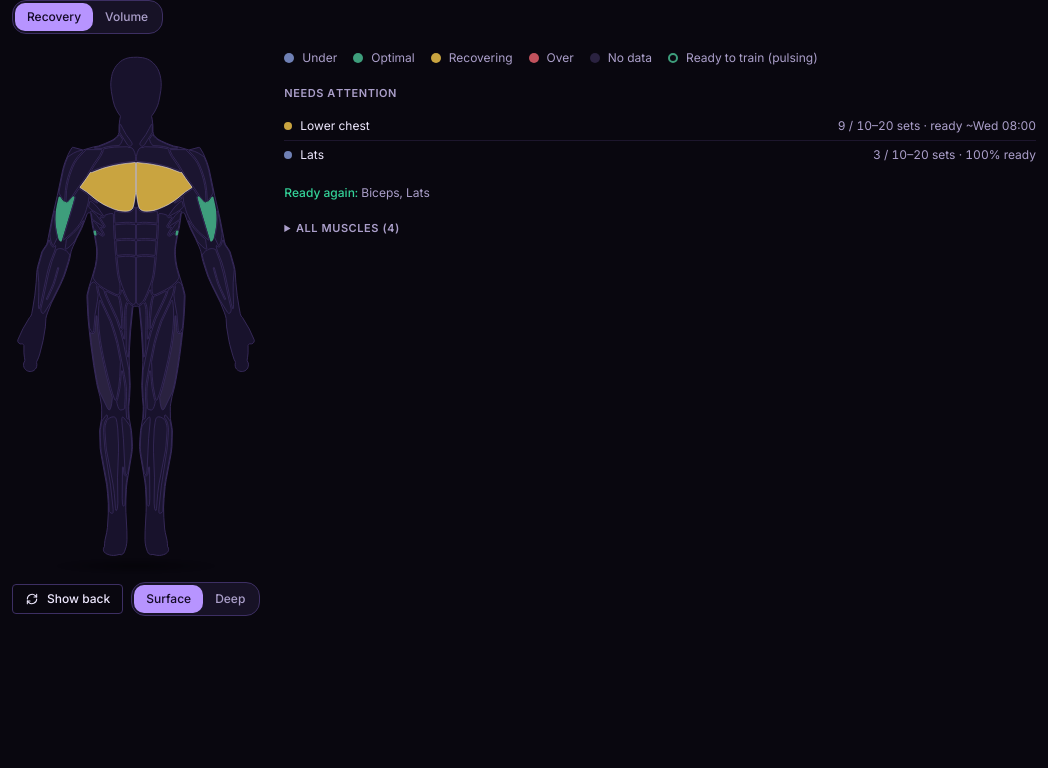
Test case: MuscleMap › flips between front and back as a card rotate
Click the button with aria-label "Show back of the body" at (68, 599), box [12,584,123,614]
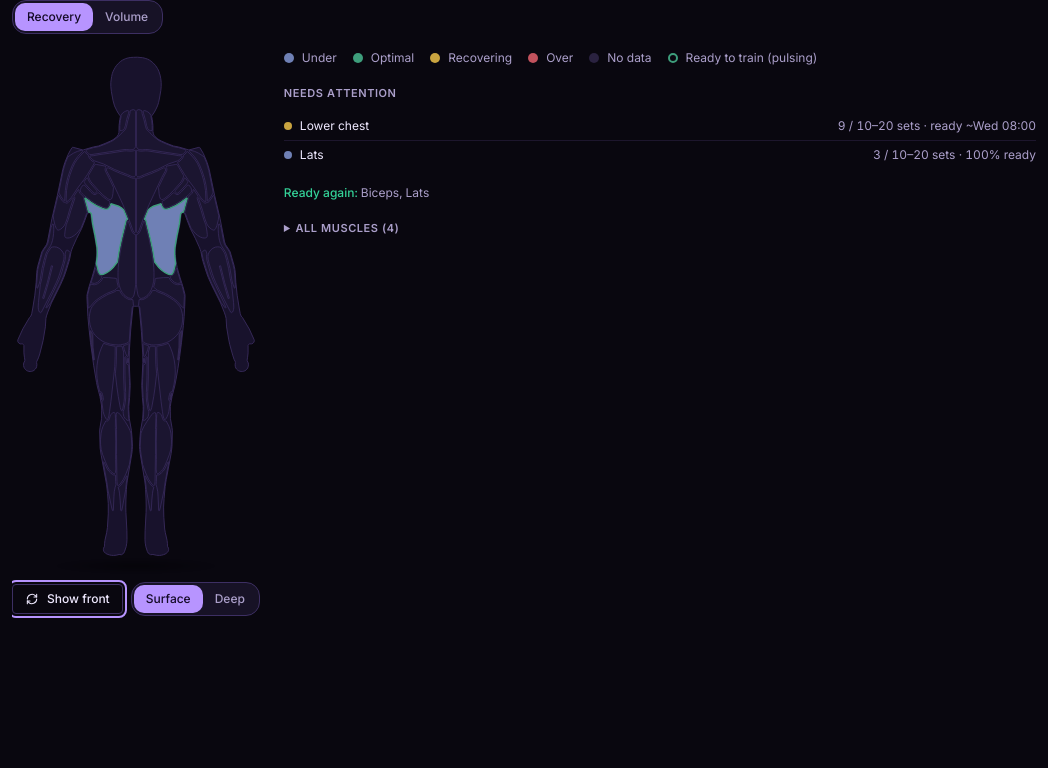
Result: the button with aria-label "Show front of the body" is shown at [12,584,123,614]
